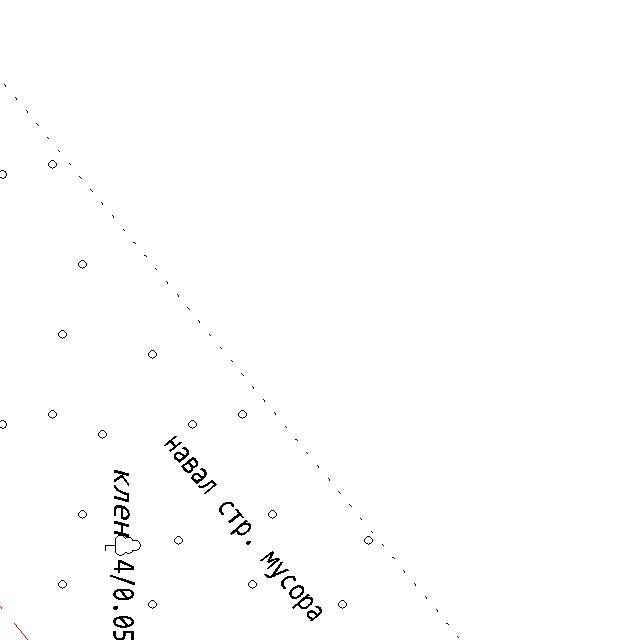tree: (101, 534, 142, 556)
